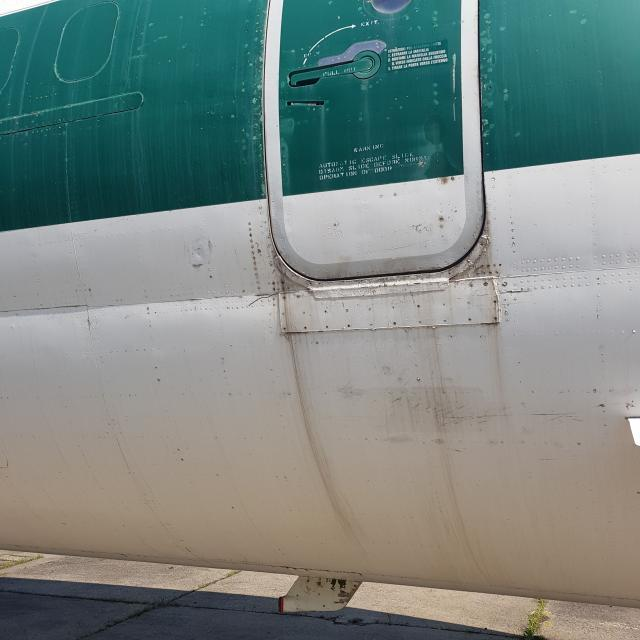crack: (242, 293, 288, 311)
